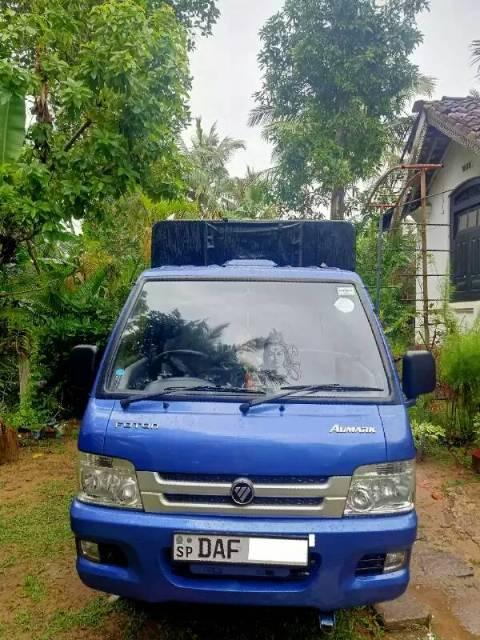truck: (69, 218, 437, 610)
